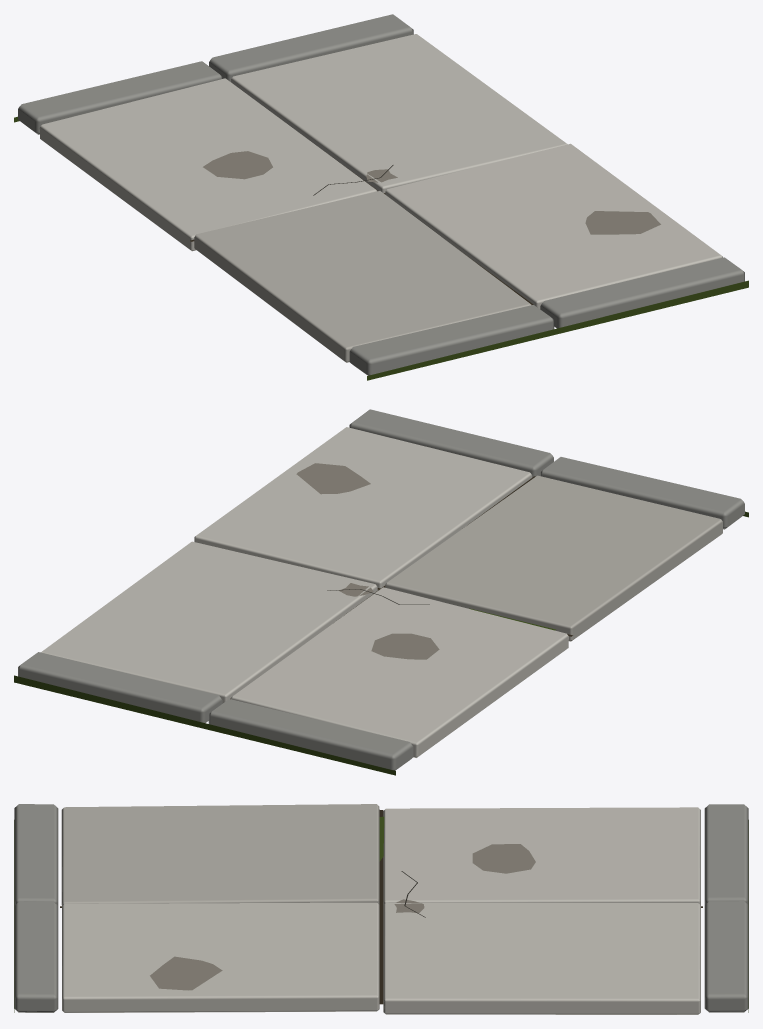
The model's file is paving_strip@1.glb.
3 renders of one model, top to bottom at view 1: azimuth 30°, elevation 25°; view 2: azimuth 150°, elevation 25°; view 3: azimuth 270°, elevation 25°, orthographic. The views are drawn at different scales.
Visible parts, largest first — view 1: pflaster; view 2: pflaster; view 3: pflaster.
Boxes of the visible parts, box(x1,y1,x2,y2) form: pflaster: box(14, 14, 748, 380); pflaster: box(14, 409, 748, 775); pflaster: box(14, 804, 748, 1014).
Size of the model in its own units: 1 by 0.0532 by 1.6.
